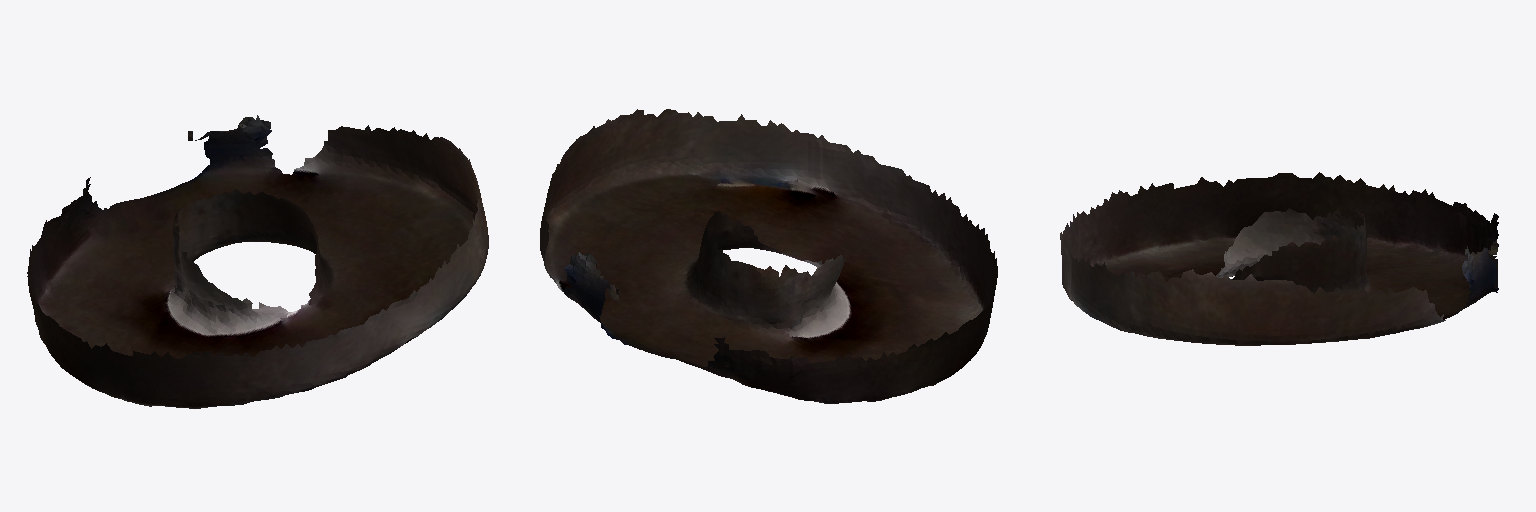
The picture shows the model from 3 angles: view 1: azimuth 30°, elevation 25°; view 2: azimuth 150°, elevation 25°; view 3: azimuth 270°, elevation 25°; orthographic projection.
Size of the model in its own units: 85.41 by 30.13 by 80.86.
1 materials, 1 textured.